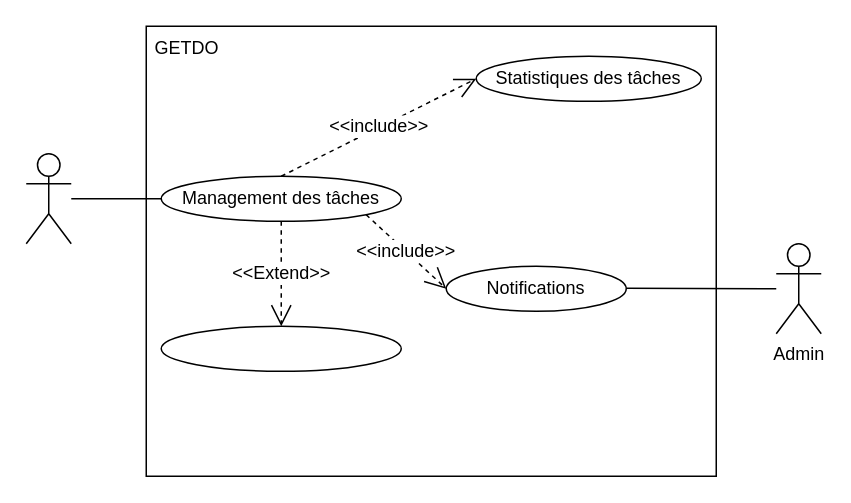
Some shapes in this 851 by 503 pixel diagram are drawn without their labels. The box of each missing label's shape, as (x1, y1, x2, y2) in pixels:
Connection / inscription: (160, 325, 401, 371)
User: (25, 152, 71, 244)
